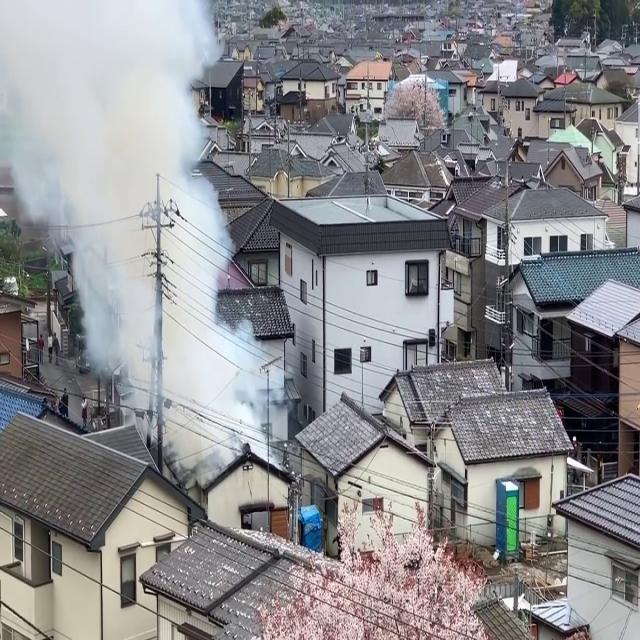Smoke: (5, 1, 269, 467)
